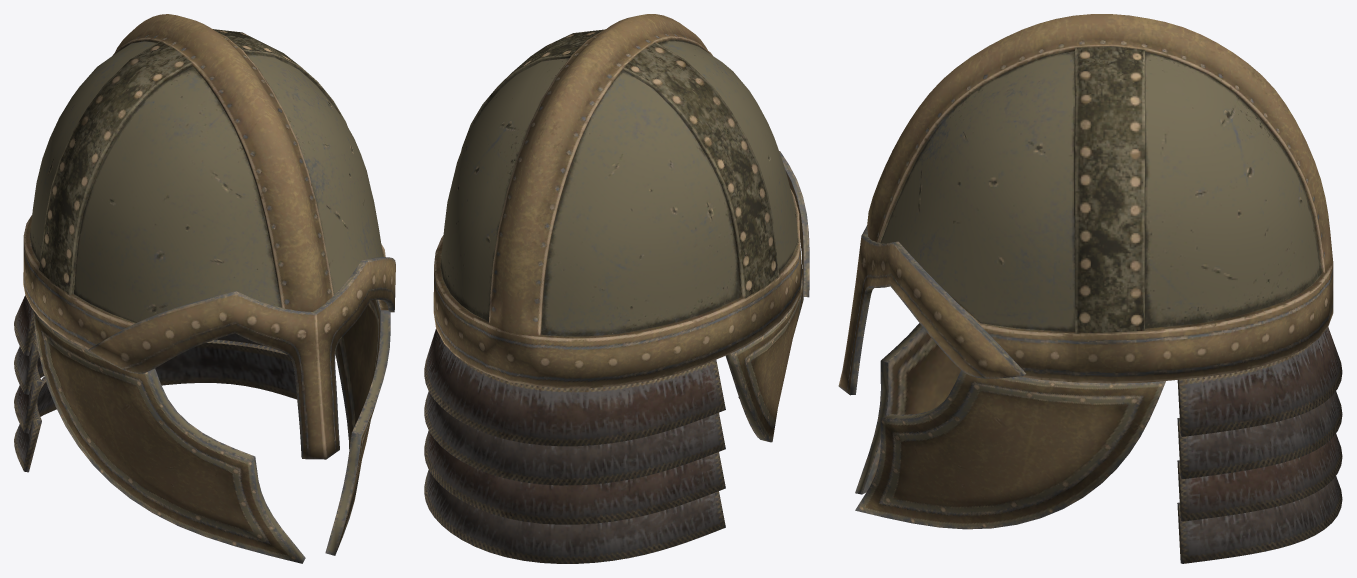
The model's file is dunland_wulf_helmet_heavy_f.fbx.
3 views of the same model, side by side, from view 1: azimuth 30°, elevation 25°; view 2: azimuth 150°, elevation 25°; view 3: azimuth 270°, elevation 25° (orthographic). The views are drawn at different scales.
Visible parts, largest first — view 1: dunland_wulf_helmet_heavy_f; view 2: dunland_wulf_helmet_heavy_f; view 3: dunland_wulf_helmet_heavy_f.
Boxes of the visible parts, box(x1,y1,x2,y2) form: dunland_wulf_helmet_heavy_f: box(14, 14, 395, 563); dunland_wulf_helmet_heavy_f: box(424, 14, 809, 563); dunland_wulf_helmet_heavy_f: box(838, 14, 1342, 563).
Size of the model in its own units: 0.2073 by 0.2697 by 0.288.
1 material, 1 textured.
